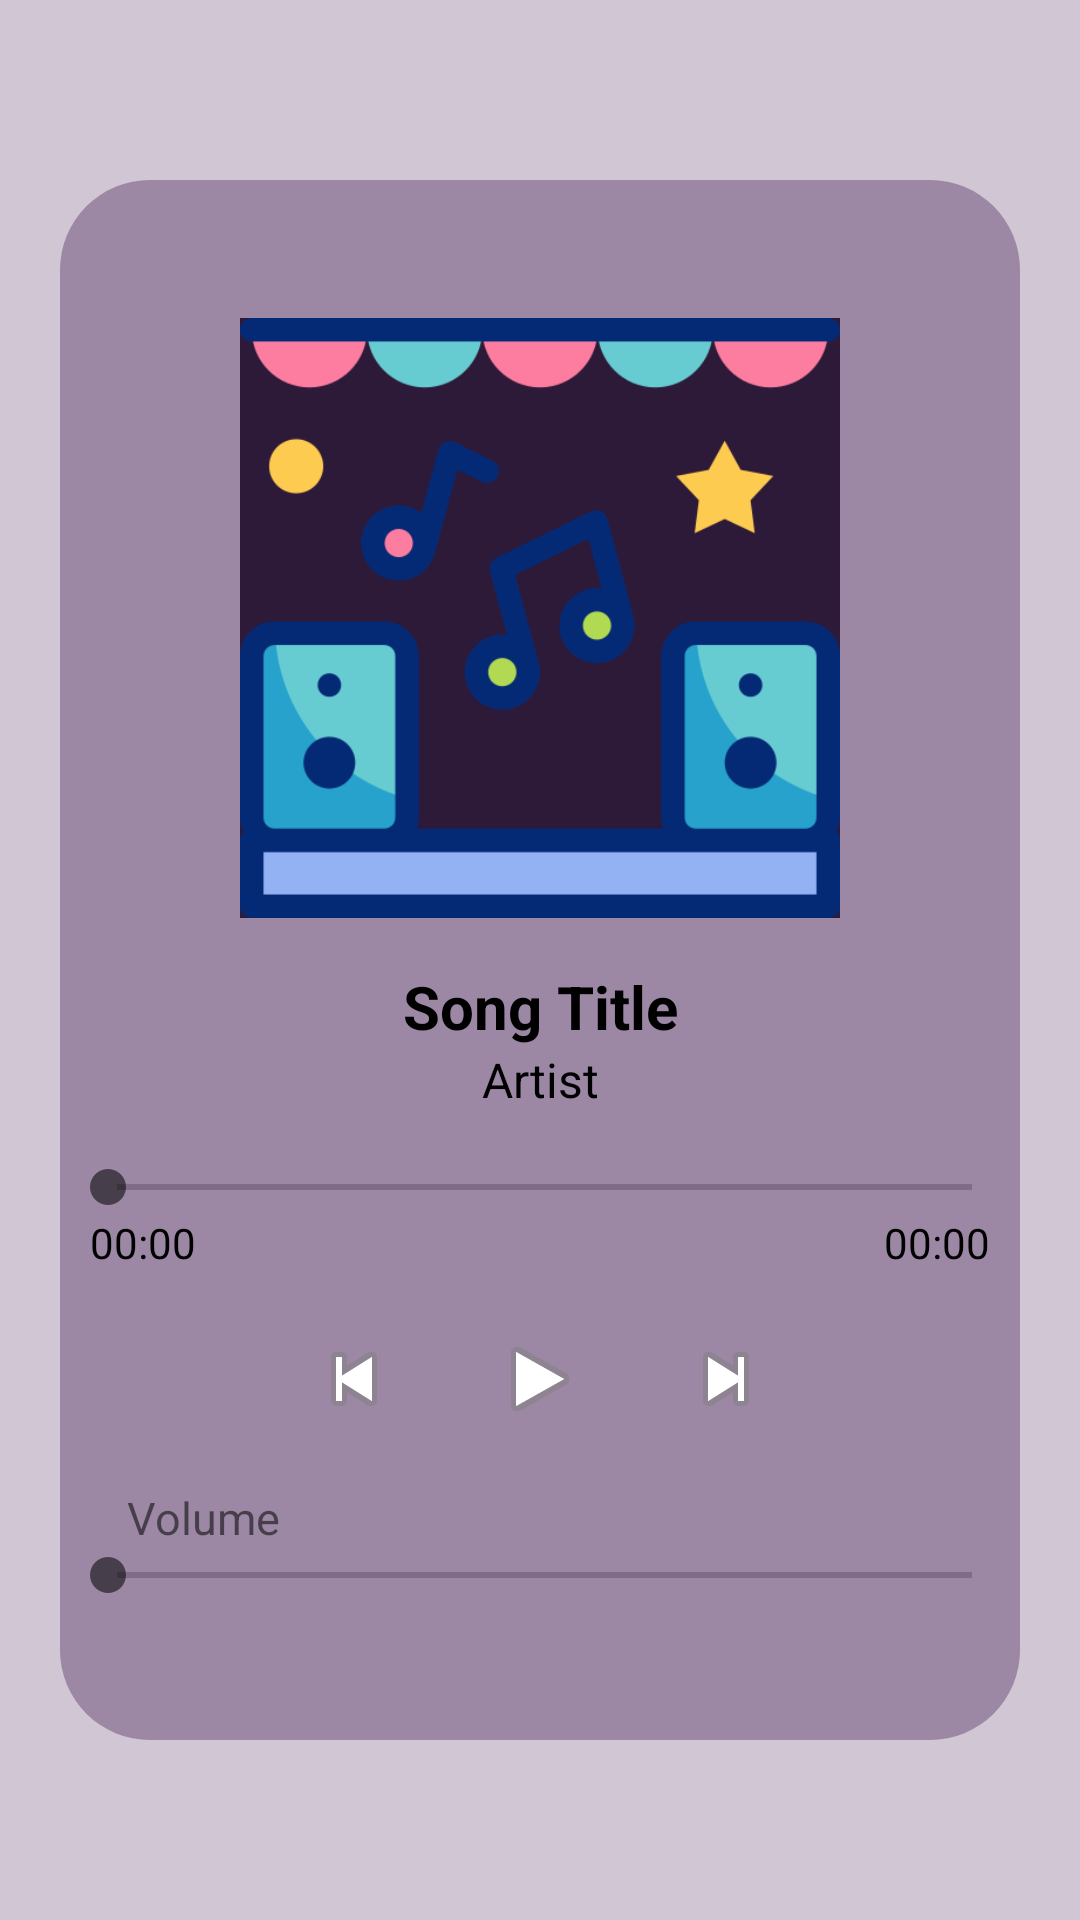

Where icons sit on this 1080 × 1920 app screen, as Rect(x1, y1, x2, y2):
next: Rect(708, 1357, 744, 1401)
play: Rect(516, 1352, 564, 1406)
previous: Rect(336, 1357, 372, 1401)
